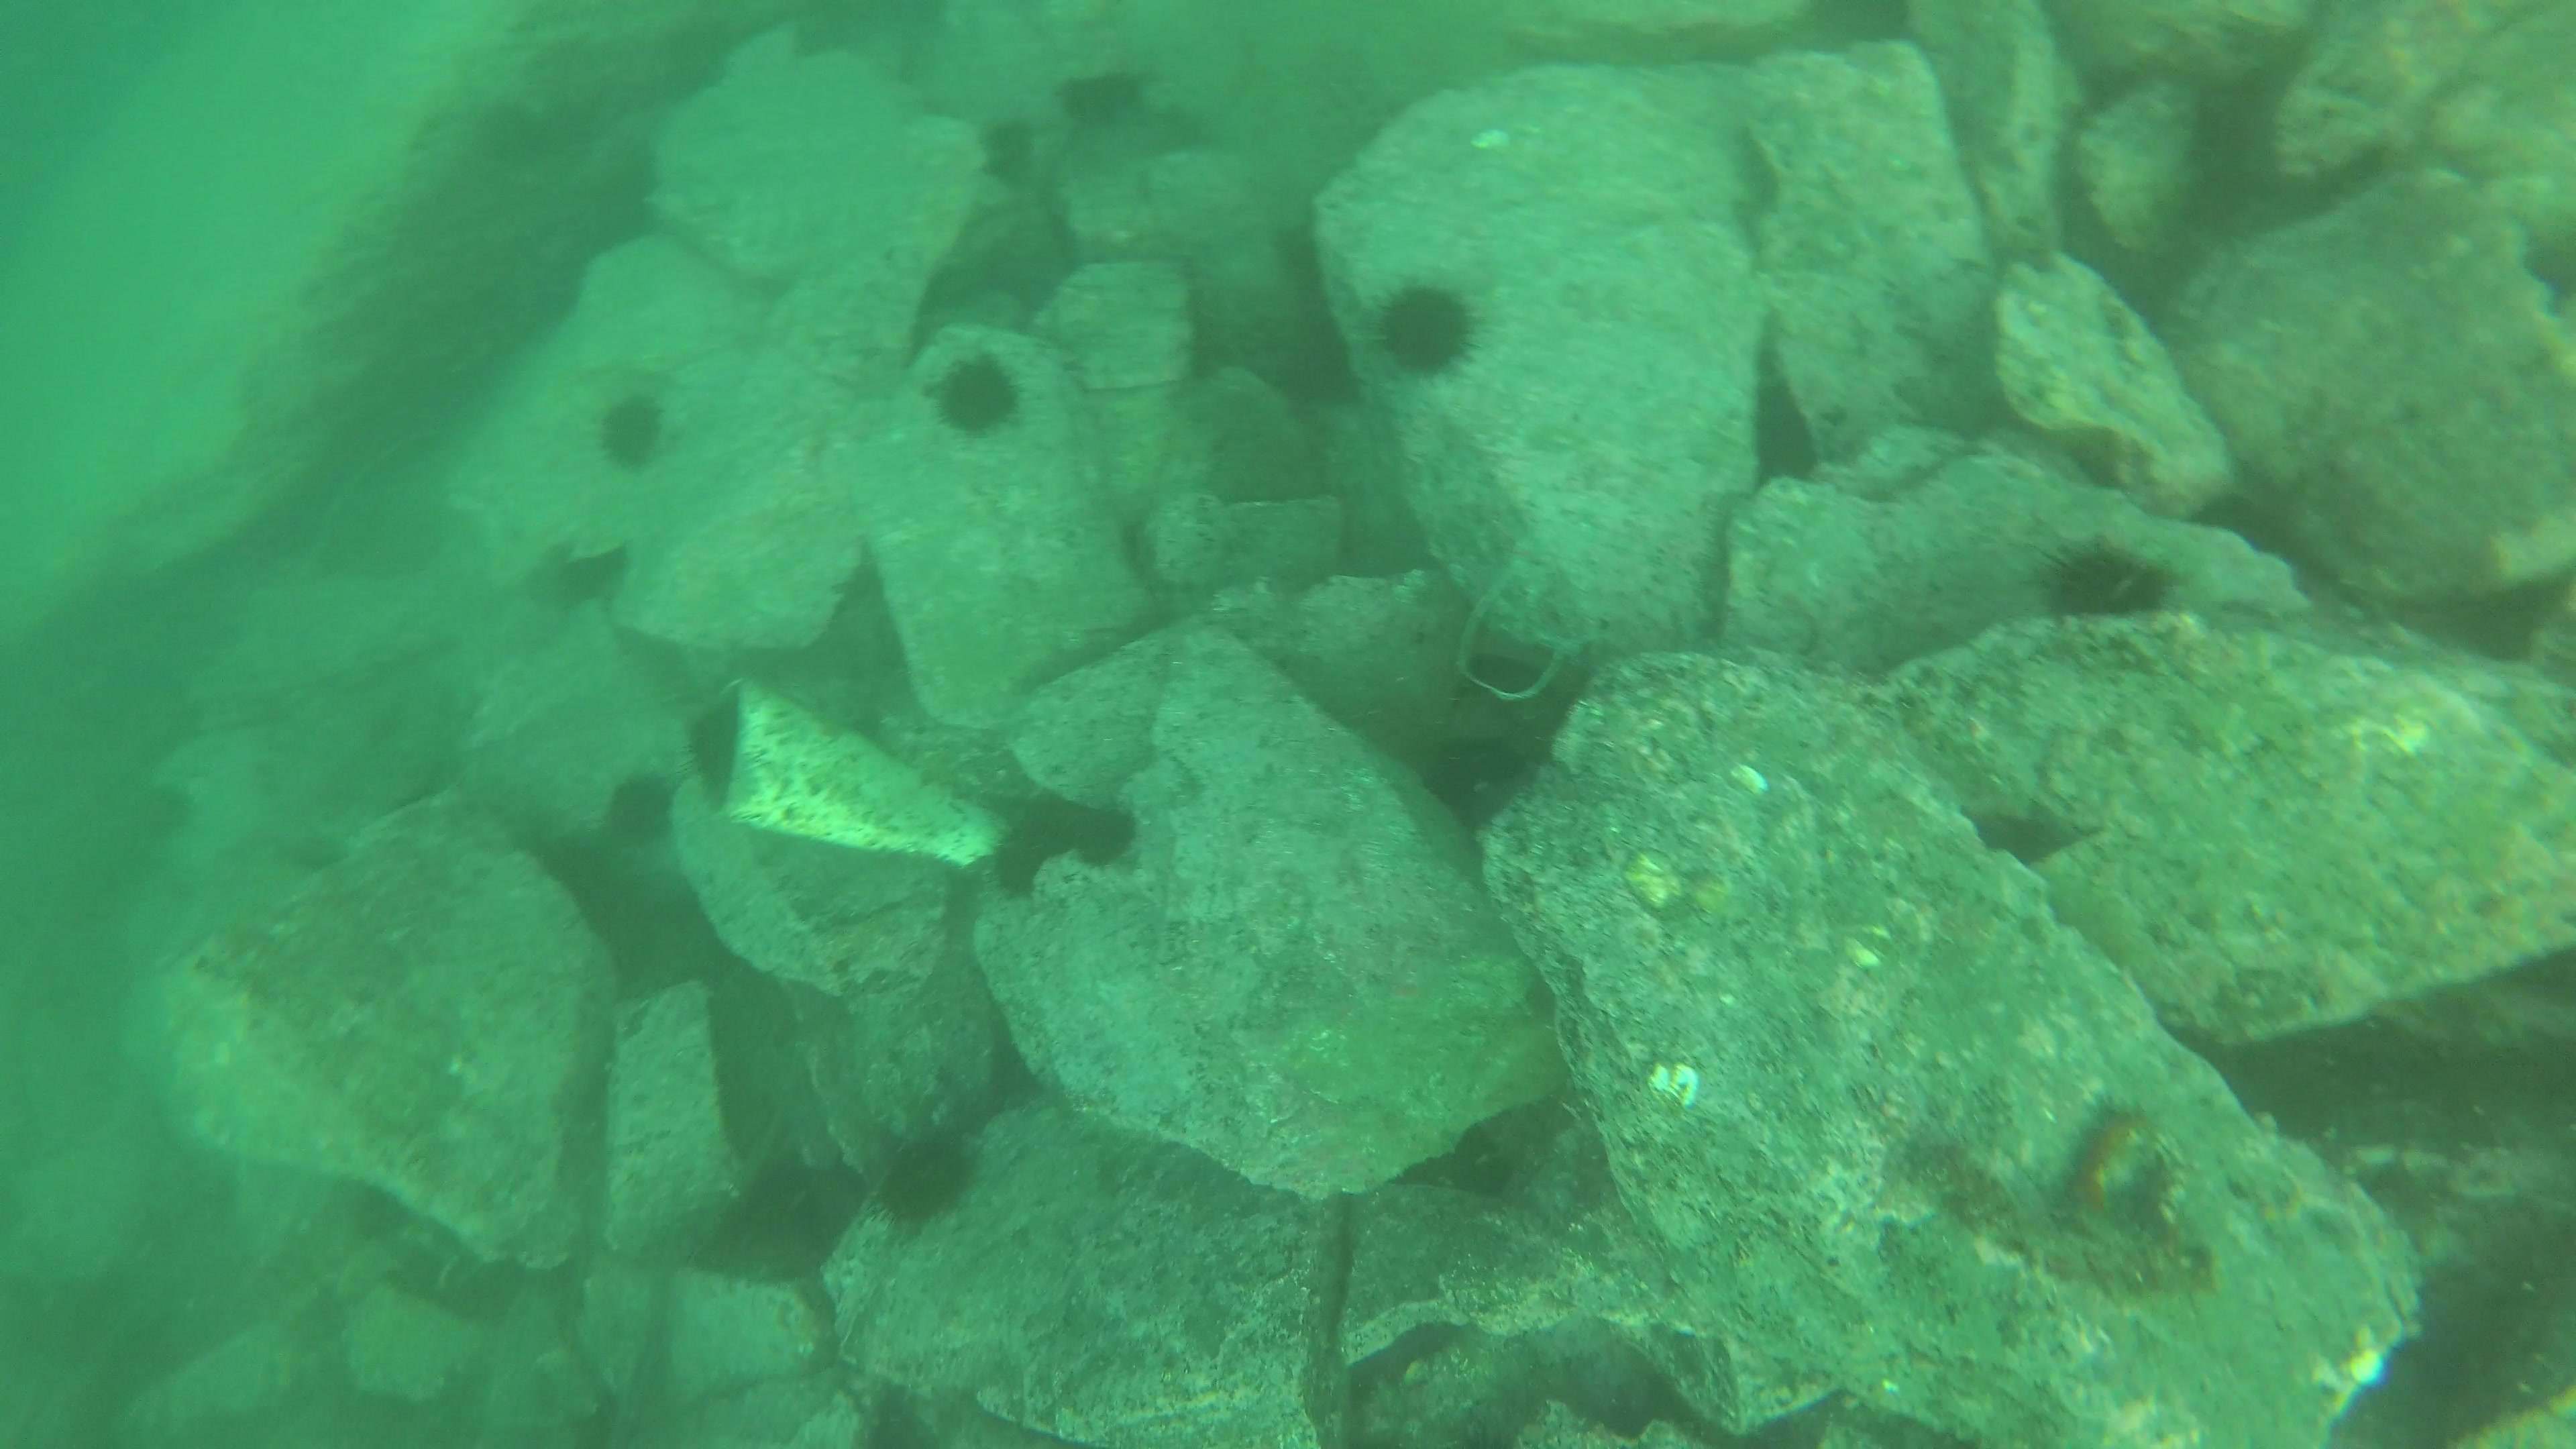echinus: (2043, 541, 2176, 630), (1417, 734, 1543, 824), (878, 1132, 970, 1228), (1378, 287, 1474, 375), (925, 356, 1024, 441), (596, 395, 672, 474), (991, 830, 1069, 901), (603, 771, 676, 844), (1060, 69, 1141, 133), (1074, 805, 1145, 872)
